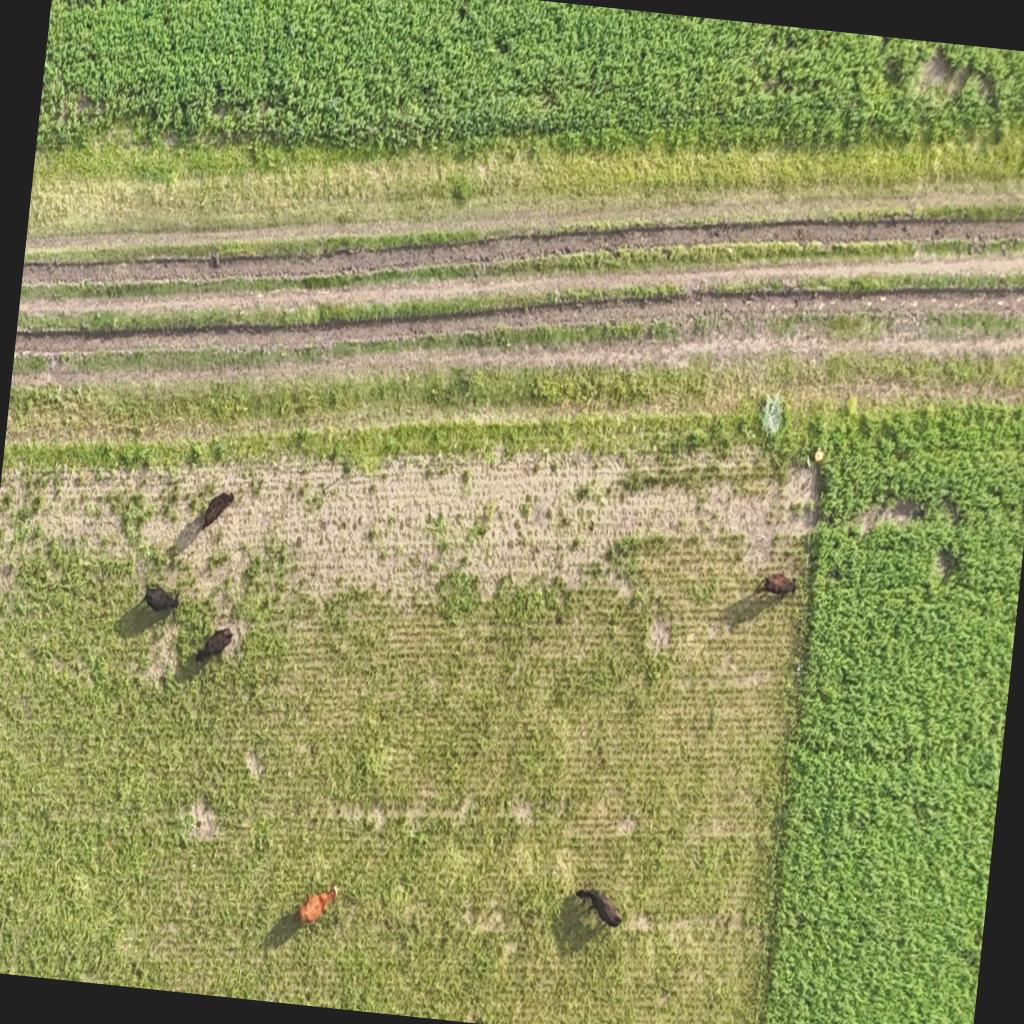cow: (567, 880, 629, 936), (183, 618, 240, 678), (293, 878, 343, 934), (748, 565, 800, 605), (200, 485, 236, 542), (139, 580, 182, 620)
